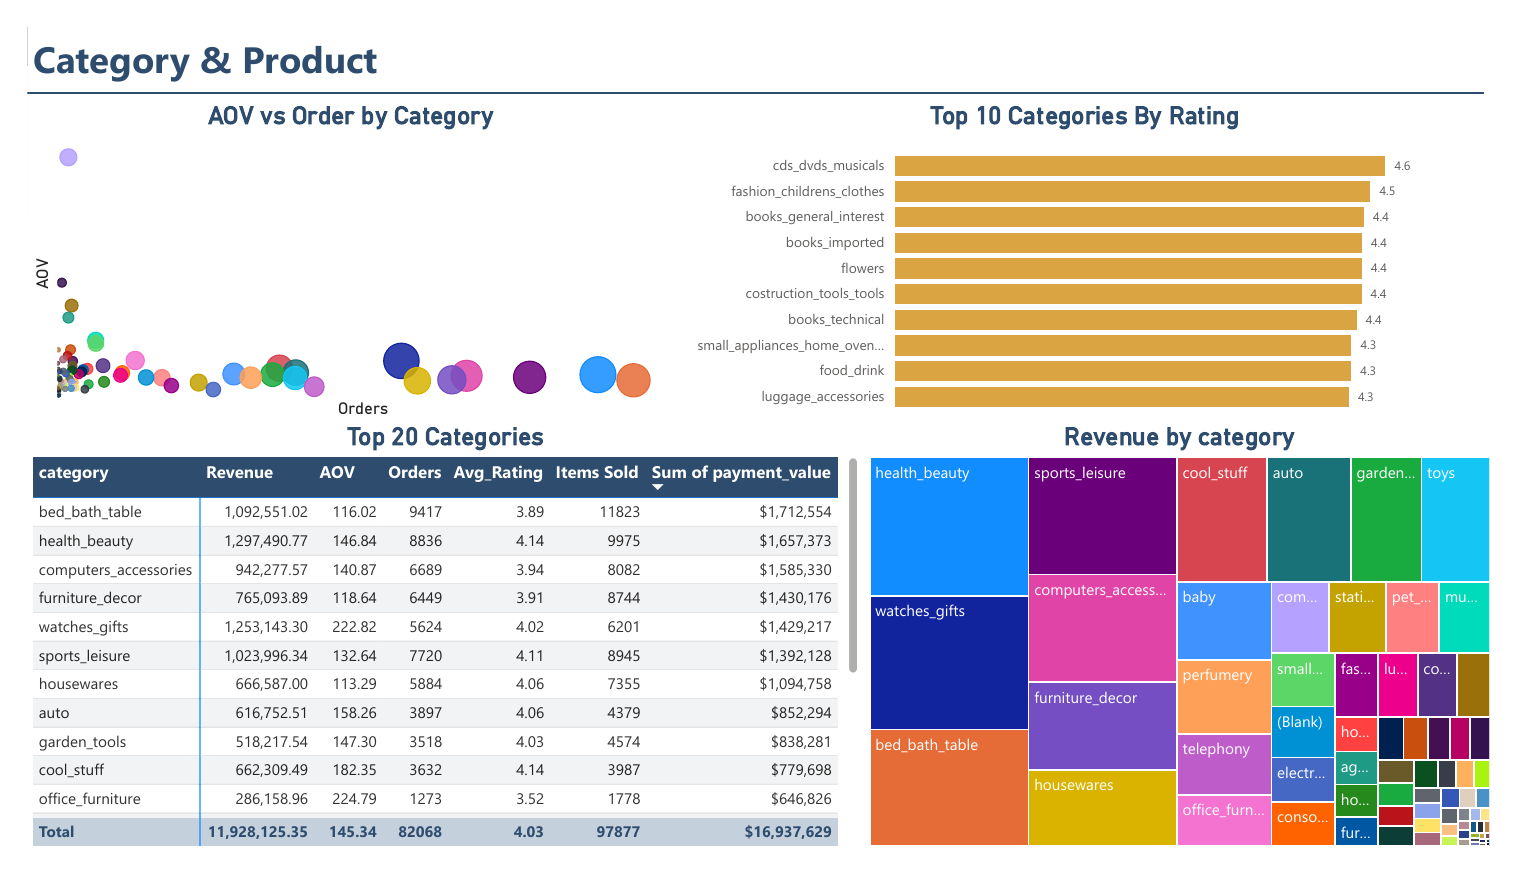

The page's visual inventory and layout, read from the dashboard file:
{"tool":"powerbi","page":{"name":"Category and Product","canvas":[1280,720],"ordinal":2},"visuals":[{"type":"shape","box":[0,48.6,1271.1,16.2],"z":0},{"type":"textbox","box":[0,0,1280.8,56.7],"z":1000},{"type":"scatterChart","title":"AOV vs Order by Category","fields":{"X":["public bi_fact_sales.Orders"],"Y":["public bi_fact_sales.AOV"],"Size":["public bi_fact_sales.Revenue"],"Series":["public bi_fact_sales.category"]},"box":[0,64.8,565.1,280.1],"z":2000},{"type":"barChart","title":"Top 10 Categories By Rating","fields":{"Category":["public bi_fact_sales.category"],"Y":["public bi_fact_sales.Avg_Rating"]},"box":[565.1,64.8,715.7,280.1],"z":3000},{"type":"pivotTable","title":"Top 20 Categories","fields":{"Rows":["public bi_fact_sales.category"],"Values":["public bi_fact_sales.Revenue","public bi_fact_sales.AOV","public bi_fact_sales.Orders","public bi_fact_sales.Avg_Rating","public bi_fact_sales.Items Sold","Sum(public bi_fact_sales.payment_value)"]},"box":[0,344.9,730.3,374],"z":4000},{"type":"treemap","fields":{"Group":["public bi_fact_sales.category"],"Values":["public bi_fact_sales.Revenue"]},"box":[730.3,344.9,550.5,374],"z":5000}]}

Visuals, with their boxes in screenshot pixels (x1, y1, x2, y2), scaled from the page's 1280x720 canvas onto the 1522x880 screenshot:
shape: (x1=0, y1=59, x2=1511, y2=79)
textbox: (x1=0, y1=0, x2=1521, y2=69)
"AOV vs Order by Category" scatterChart: (x1=0, y1=79, x2=672, y2=422)
"Top 10 Categories By Rating" barChart: (x1=672, y1=79, x2=1521, y2=422)
"Top 20 Categories" pivotTable: (x1=0, y1=422, x2=868, y2=879)
treemap - public bi_fact_sales.category x public bi_fact_sales.Revenue: (x1=868, y1=422, x2=1521, y2=879)
